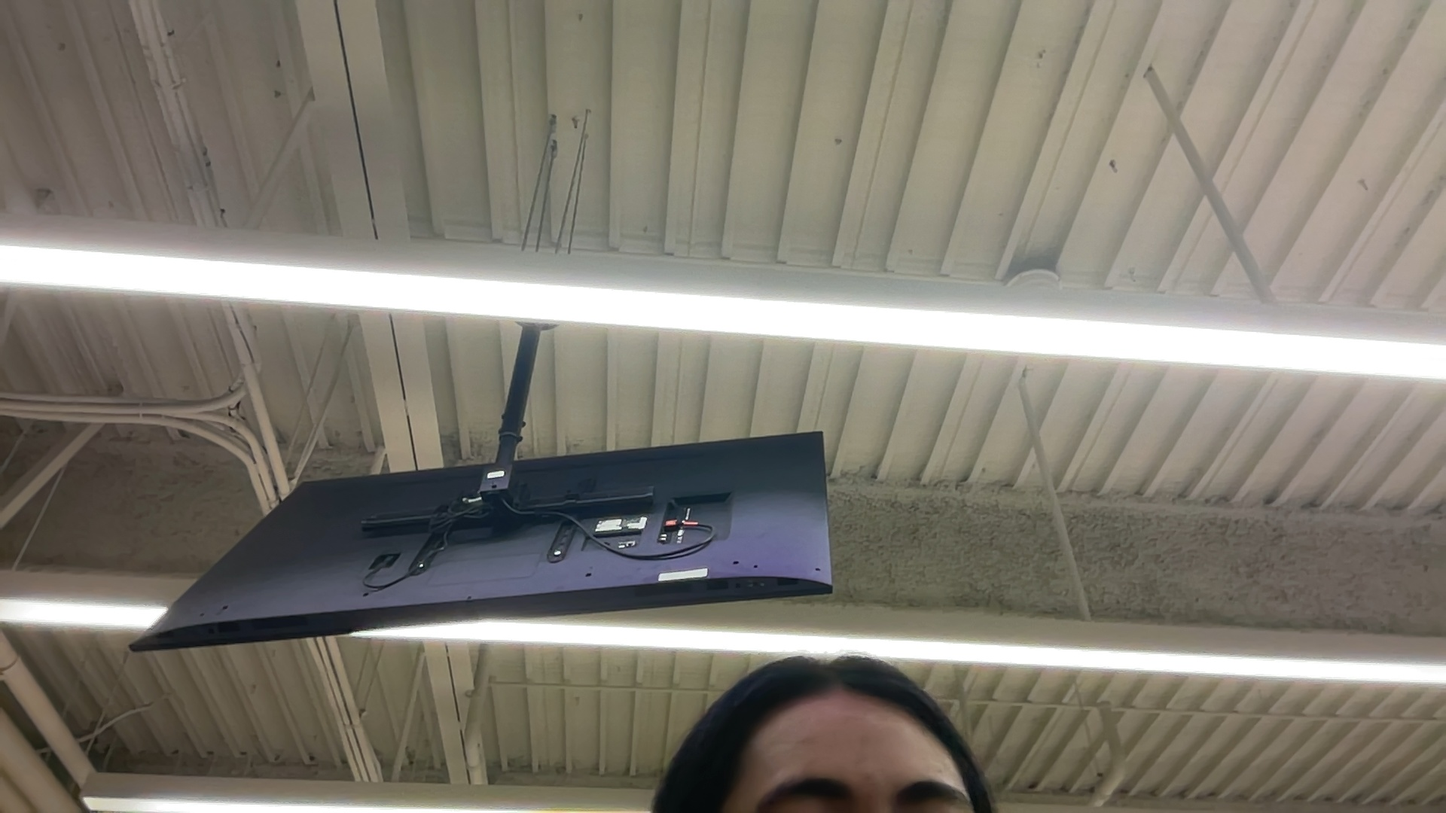Plastic: (718, 670, 979, 811)
